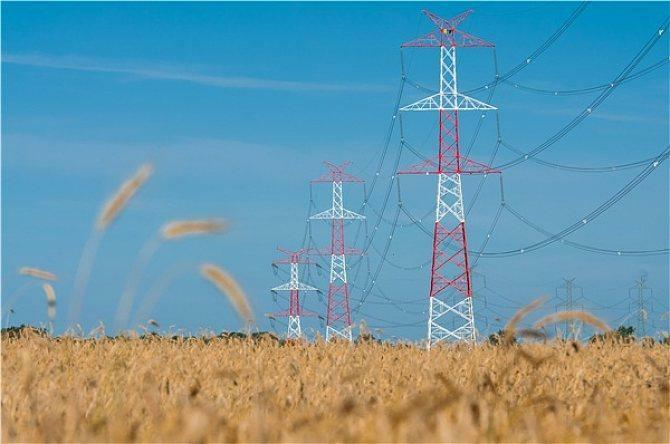power_tower: (391, 8, 503, 348), (319, 151, 369, 349), (272, 245, 322, 357)
